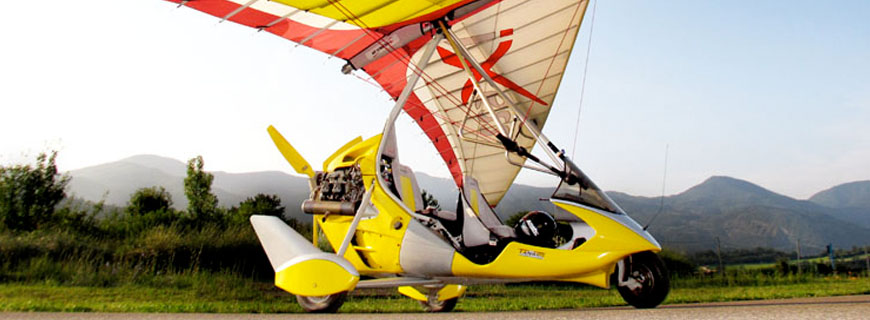Aeronef_de_loisir: (141, 1, 690, 313)
